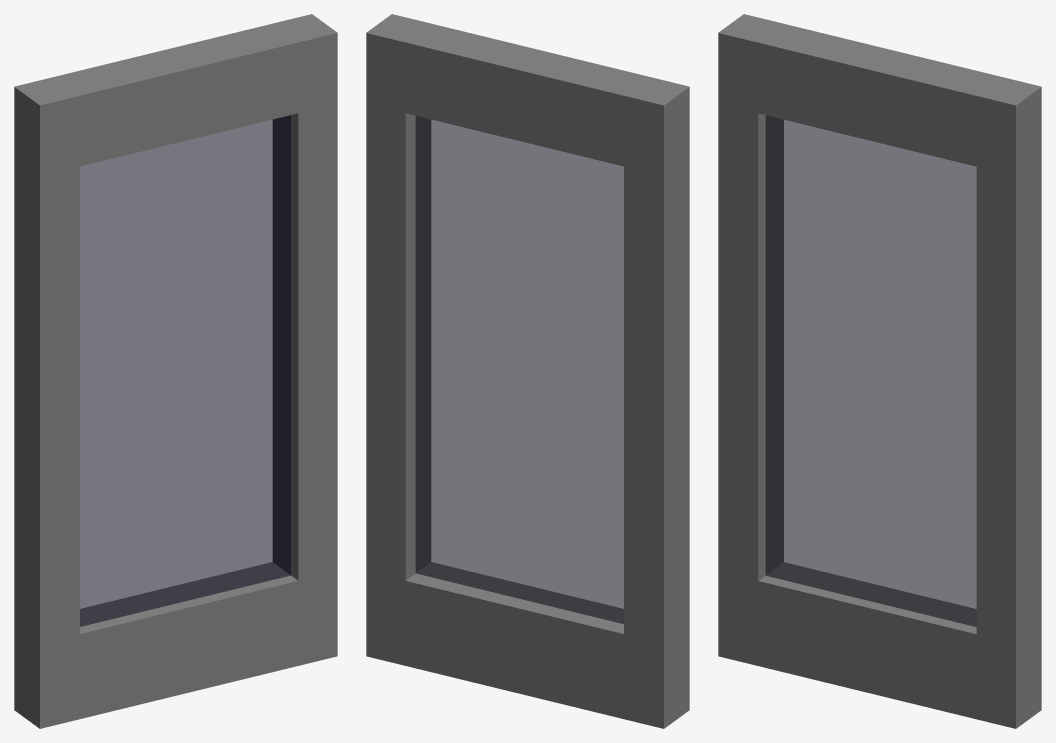
File: GreyWindowLarge.glb
The picture shows the model from 3 angles, left to right: view 1: azimuth 30°, elevation 25°; view 2: azimuth 150°, elevation 25°; view 3: azimuth 330°, elevation 25°; orthographic projection.
Visible parts, largest first — view 1: wall_largeWindow_grey; view 2: wall_largeWindow_grey; view 3: wall_largeWindow_grey.
Part boxes in pixels (x1=…): wall_largeWindow_grey: x1=14, y1=14, x2=337, y2=728; wall_largeWindow_grey: x1=366, y1=14, x2=689, y2=728; wall_largeWindow_grey: x1=718, y1=14, x2=1041, y2=728.
Size of what is drawn, in the model's own units: 2 by 4 by 0.3.
2 materials, 2 textured.
